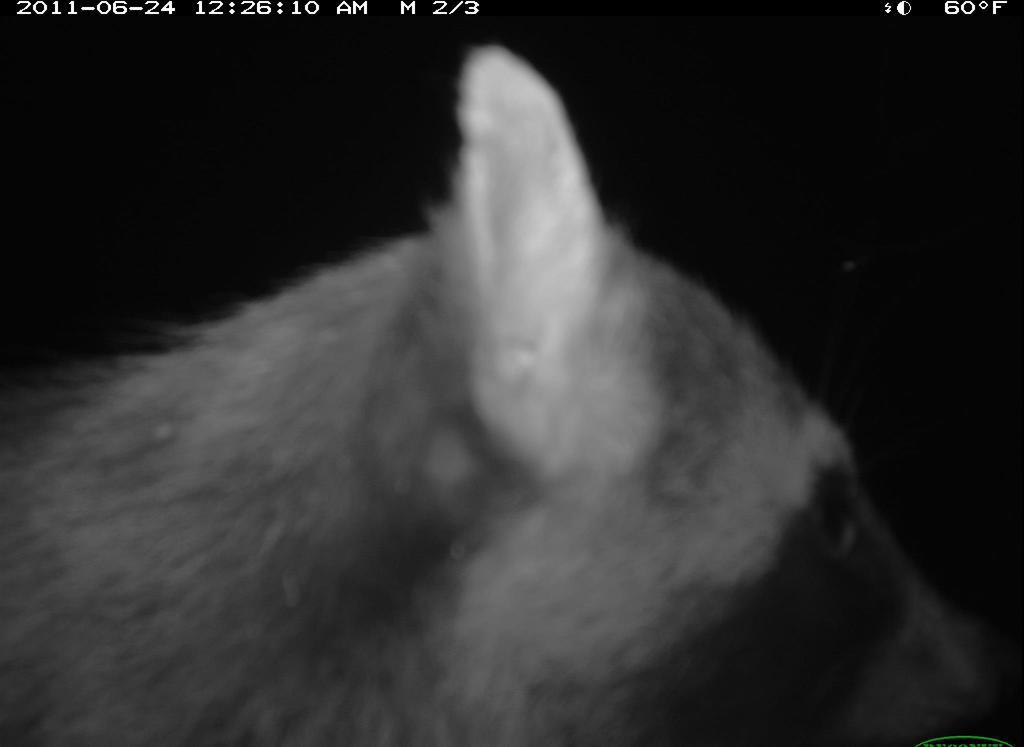raccoon: (7, 35, 1010, 745)
